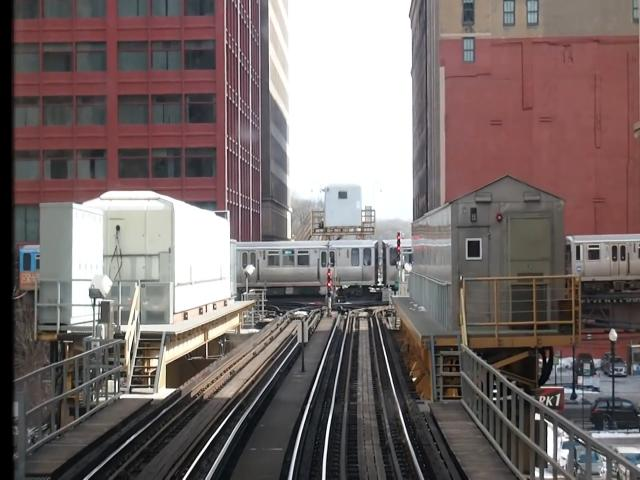signal light: (328, 267, 335, 301), (398, 233, 403, 265)
